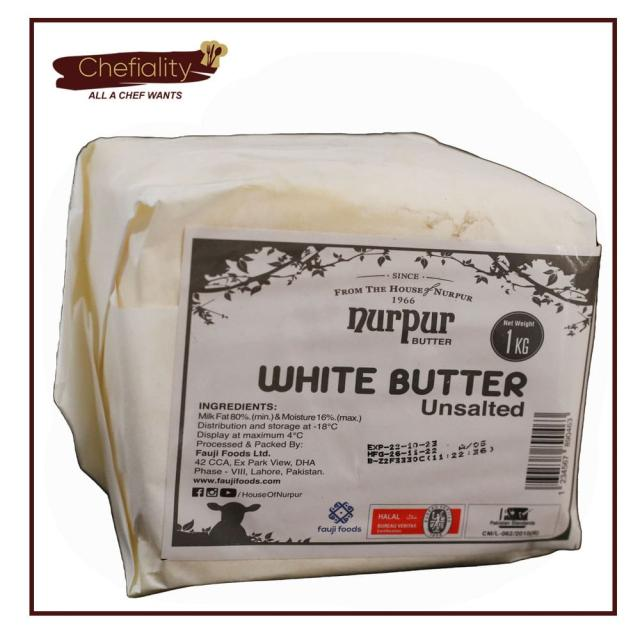butter: (53, 131, 602, 597)
